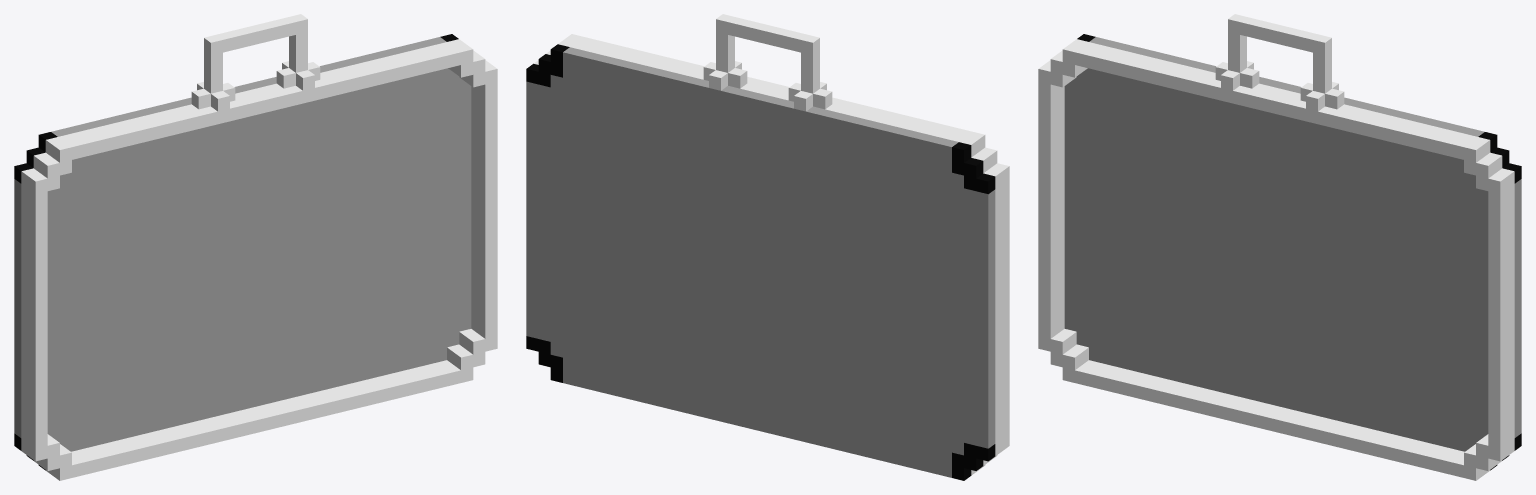
The model's file is suitcase_Bottom.obj.
3 renders of one model, left to right at view 1: azimuth 30°, elevation 25°; view 2: azimuth 150°, elevation 25°; view 3: azimuth 330°, elevation 25°, orthographic.
Size of the model in its own units: 3.8 by 3.1 by 0.3.
Materials: 1 (1 with a texture image).
